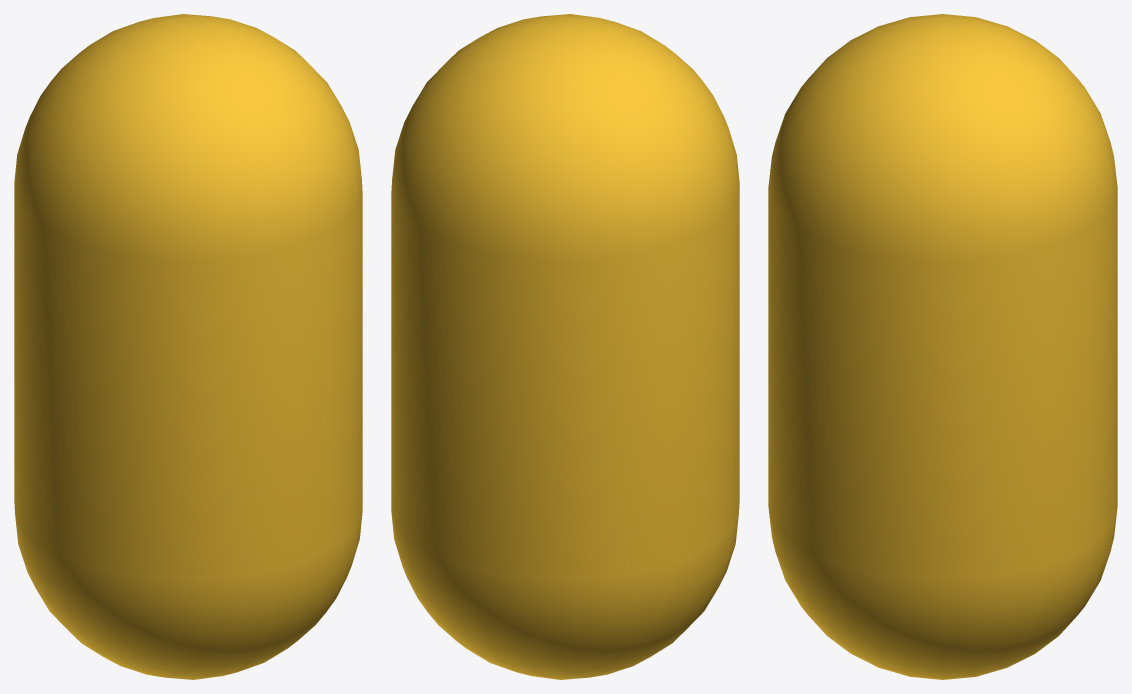
File: PlayerTwo.fbx
3 views of the same model, side by side, from view 1: azimuth 30°, elevation 25°; view 2: azimuth 150°, elevation 25°; view 3: azimuth 270°, elevation 25° (orthographic).
Visible parts, largest first — view 1: PlayerTwo; view 2: PlayerTwo; view 3: PlayerTwo.
Boxes of the visible parts, x1,y1,x2,y2 form: PlayerTwo: [14, 14, 362, 679]; PlayerTwo: [391, 14, 739, 679]; PlayerTwo: [768, 14, 1117, 679].
Size of the model in its own units: 100 by 200 by 100.
